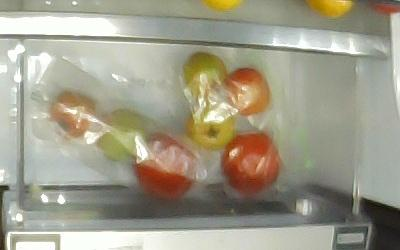tomato_vinyl: (134, 134, 195, 199), (220, 133, 280, 193), (97, 110, 147, 162), (49, 91, 95, 139), (182, 52, 228, 99), (186, 105, 234, 149), (226, 68, 269, 117)
